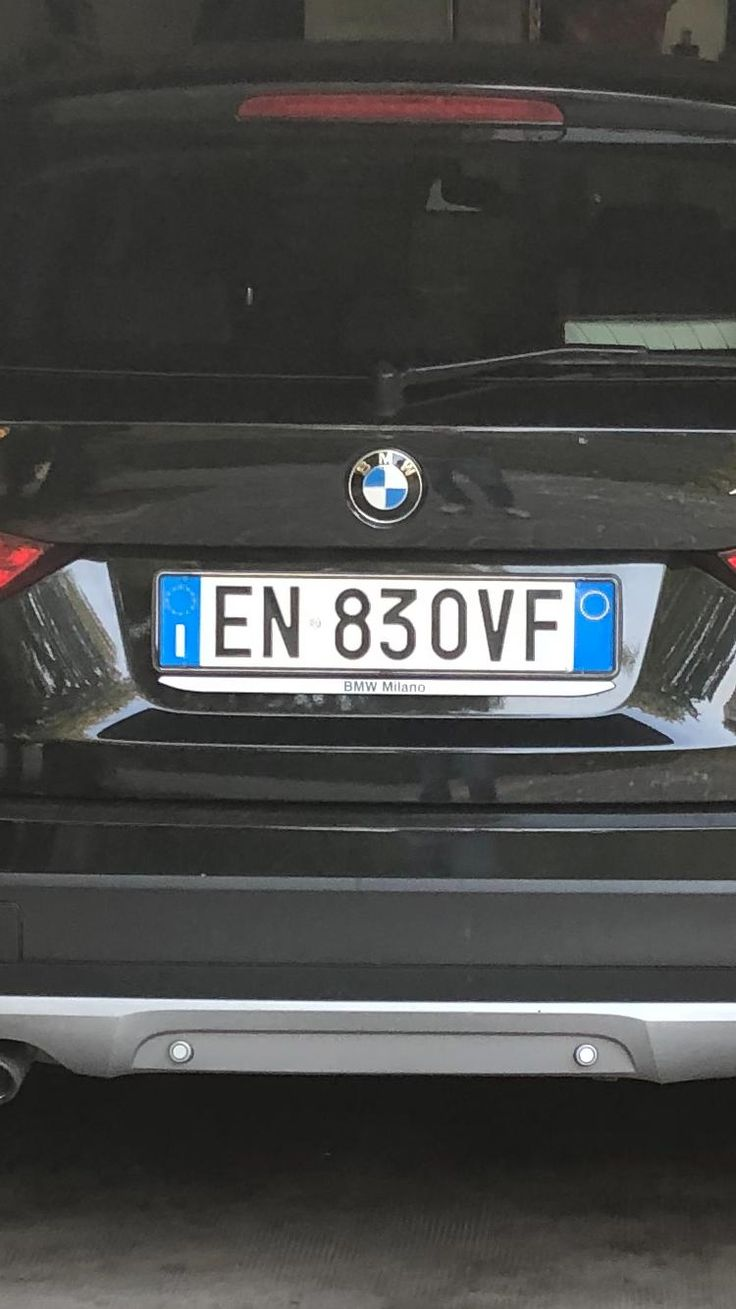plate: (153, 579, 619, 686)
